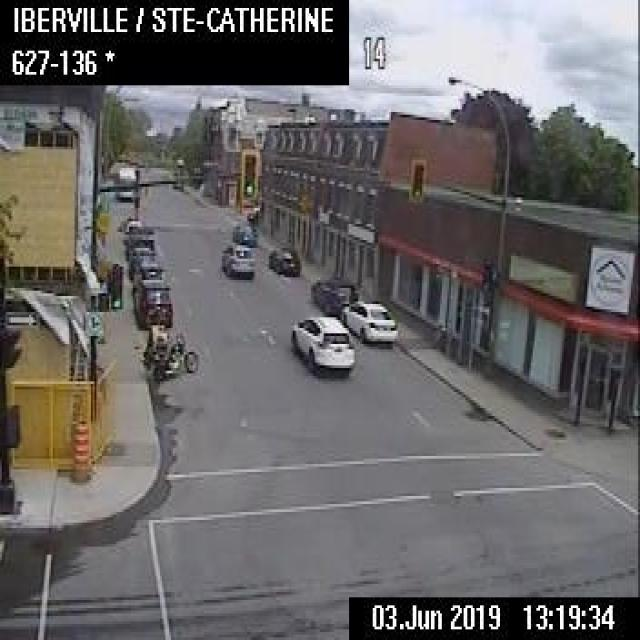bus: (113, 165, 140, 203)
construction: (69, 416, 89, 484)
vehicle: (287, 313, 354, 373), (340, 299, 397, 344), (150, 331, 197, 376), (134, 276, 171, 326), (308, 275, 356, 313), (220, 242, 253, 278), (142, 320, 168, 360), (132, 260, 162, 294), (267, 248, 302, 274), (126, 245, 154, 277), (122, 232, 153, 260), (230, 219, 256, 243), (118, 214, 144, 237)
